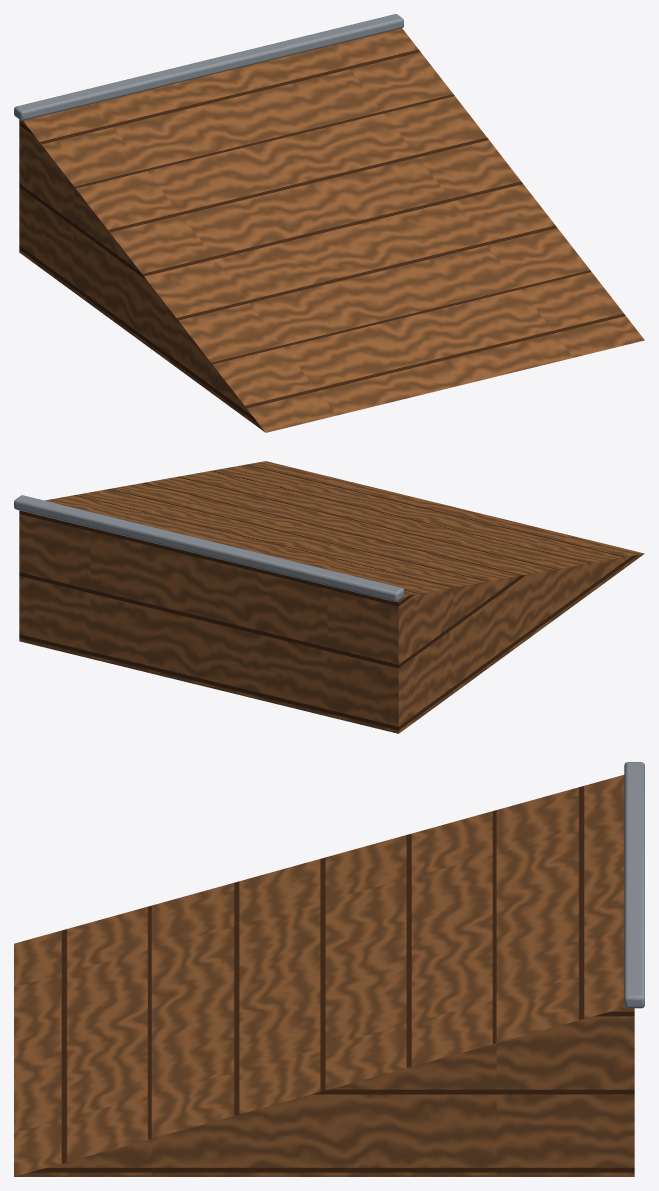
Rendered from kicker.glb.
The picture shows the model from 3 angles, top to bottom: view 1: azimuth 30°, elevation 25°; view 2: azimuth 150°, elevation 25°; view 3: azimuth 270°, elevation 25°; orthographic projection. The views are drawn at different scales.
Visible parts, largest first — view 1: Kicker; view 2: Kicker; view 3: Kicker.
Boxes of the visible parts, left/top/right/bottom form: Kicker: left=14, top=14, right=644, bottom=432; Kicker: left=14, top=461, right=644, bottom=733; Kicker: left=14, top=762, right=644, bottom=1176.
Size of the model in its own units: 1.62 by 0.58 by 1.83.
Materials: 2 (1 with a texture image).
